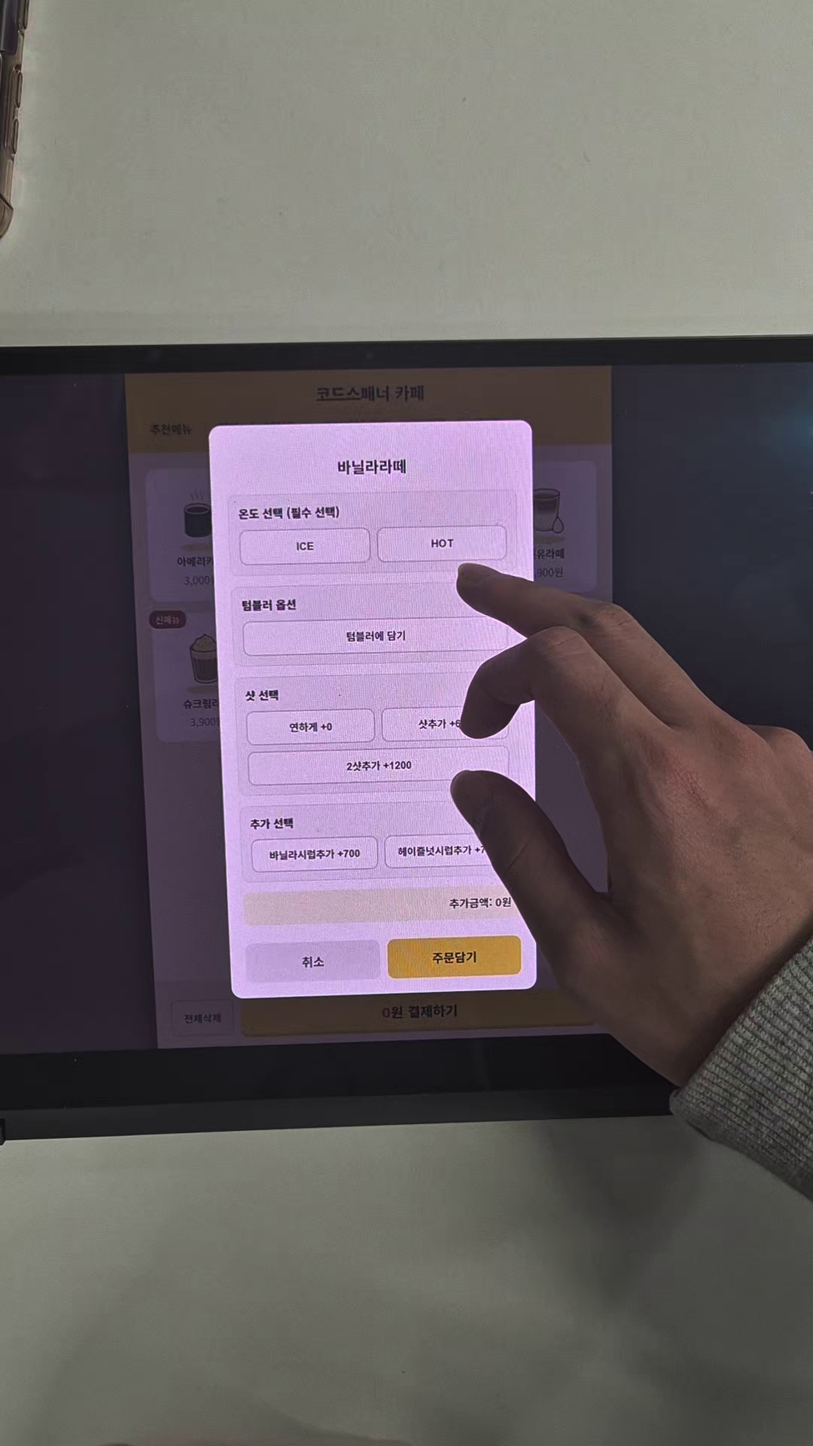action_button: (387, 936, 522, 979), (247, 942, 380, 985)
option_button: (243, 617, 509, 657), (250, 747, 506, 786), (240, 529, 370, 565), (382, 706, 512, 742), (378, 525, 507, 561), (245, 708, 374, 744), (251, 836, 380, 872), (385, 834, 514, 870)
popup_modal: (208, 418, 536, 1000)
